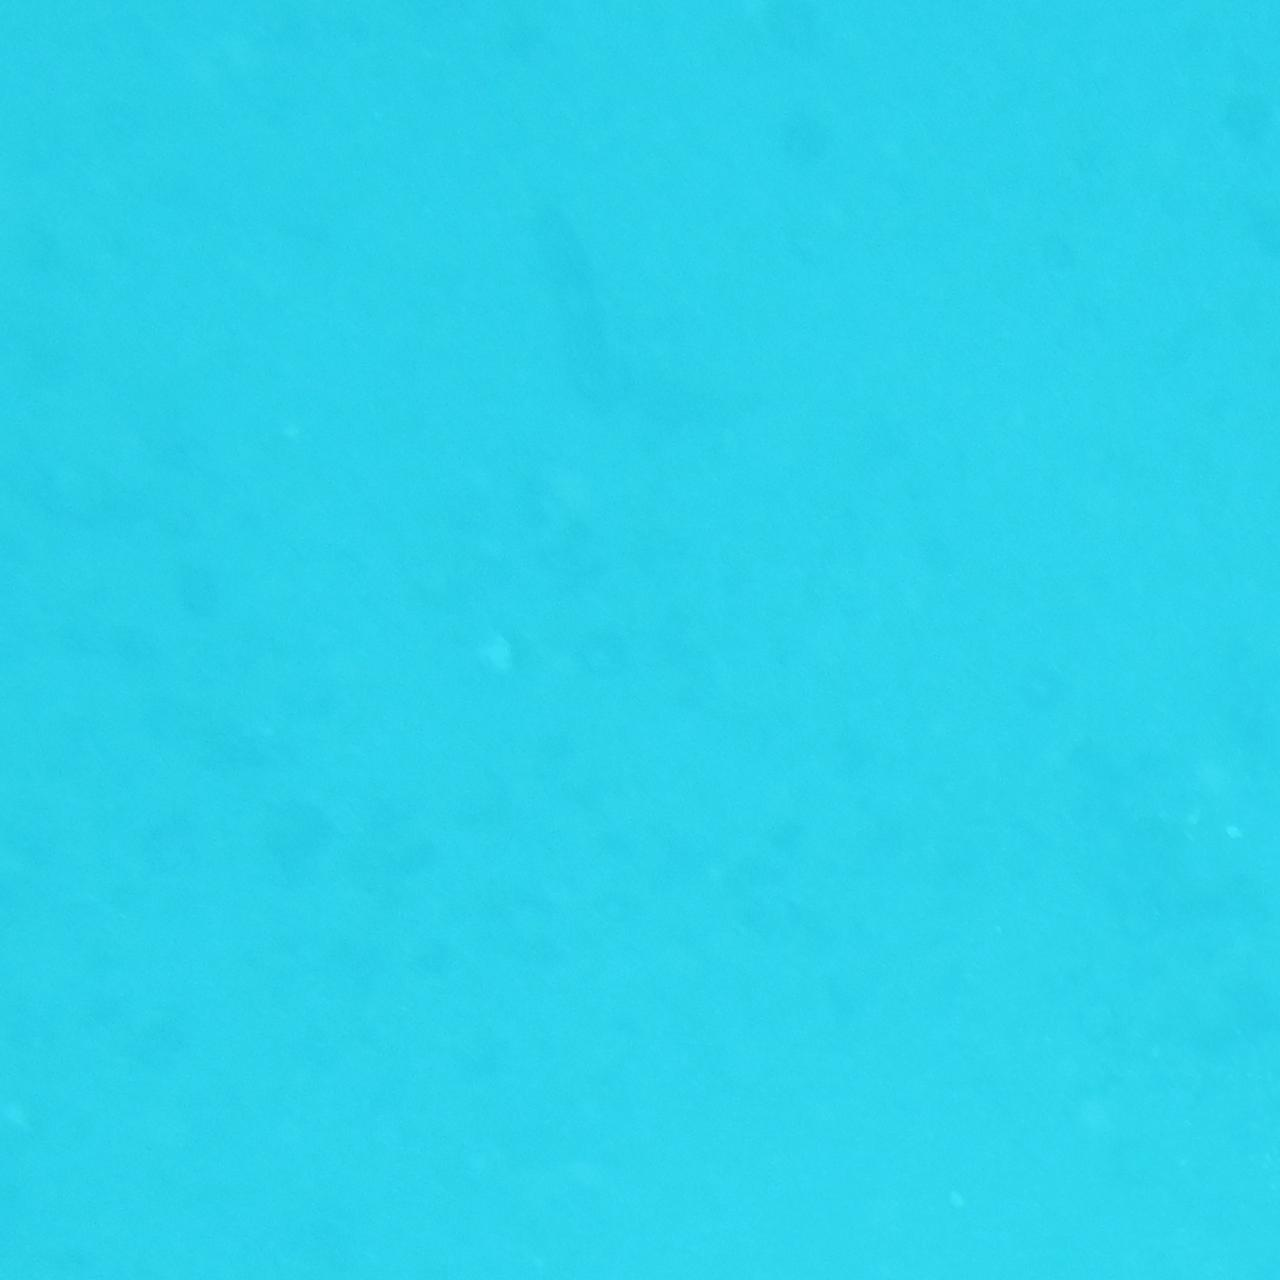Holothuria tubulosa: (527, 190, 753, 444)
